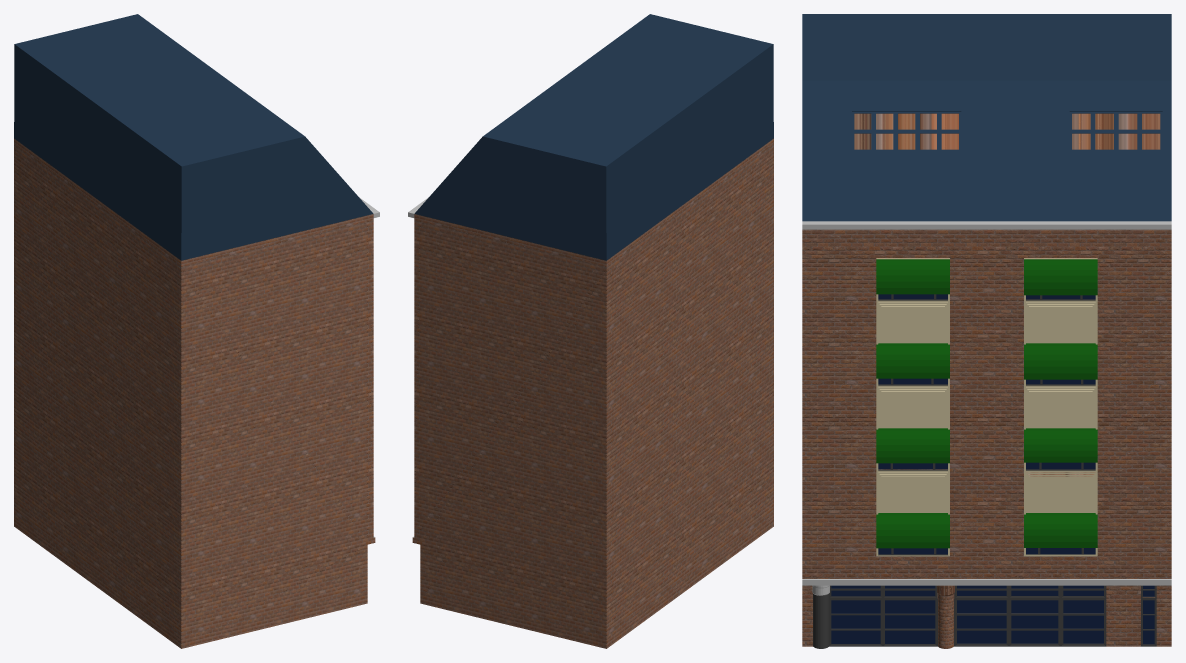
Rendered from EdificioMonta (1).fbx.
3 views of the same model, side by side, from view 1: azimuth 30°, elevation 25°; view 2: azimuth 150°, elevation 25°; view 3: azimuth 270°, elevation 25° (orthographic). The views are drawn at different scales.
Parts seen in each view (by area): view 1: Cube; view 2: Cube; view 3: Cube.
Boxes of the visible parts, x1,y1,x2,y2 form: Cube: (14, 14, 379, 648); Cube: (408, 14, 773, 648); Cube: (802, 14, 1171, 648).
Size of the model in its own units: 789 by 1742 by 1095.
Materials: 7 (1 with a texture image).
